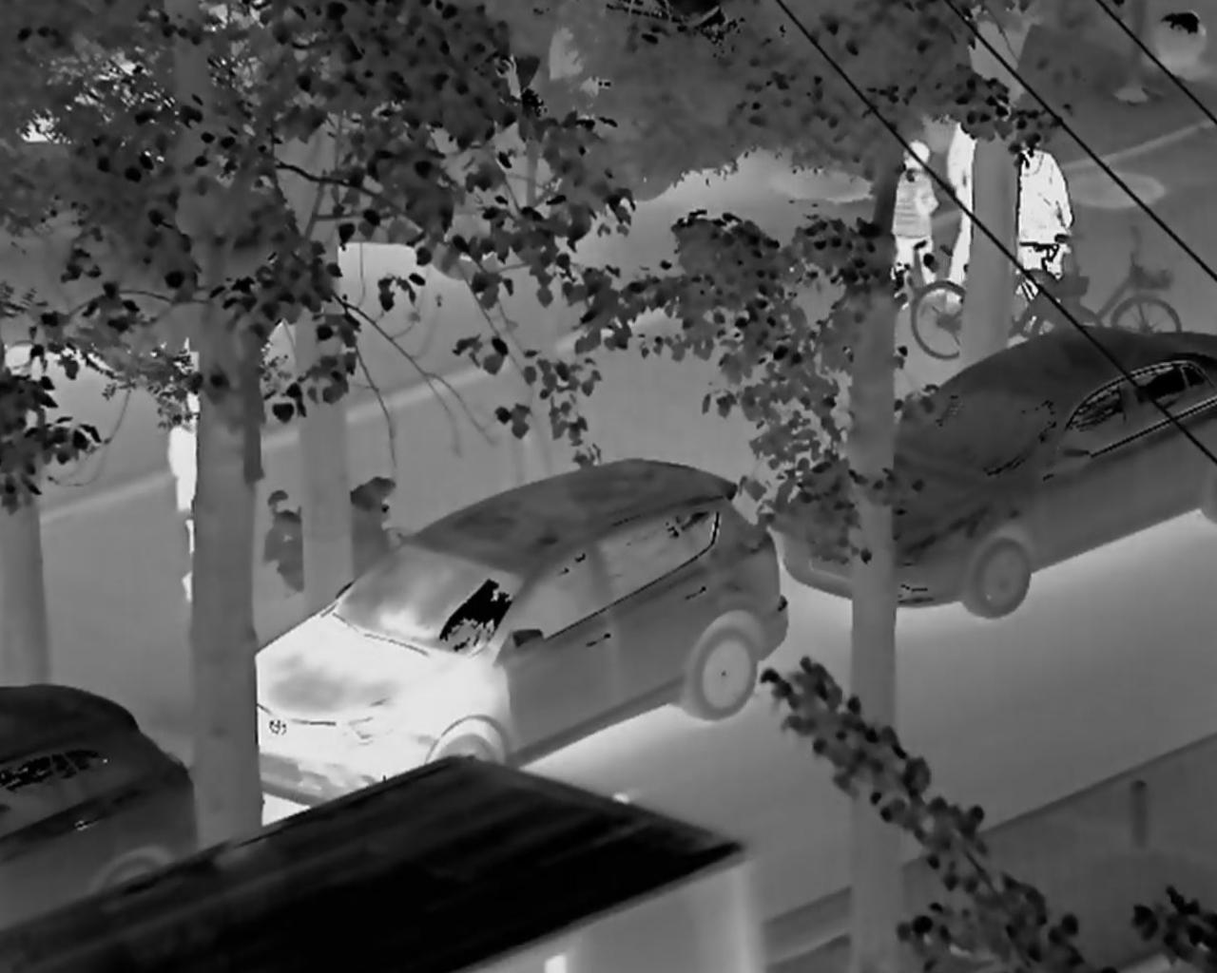person: (876, 135, 947, 296), (937, 122, 997, 302), (1006, 141, 1079, 279), (172, 391, 203, 595)
